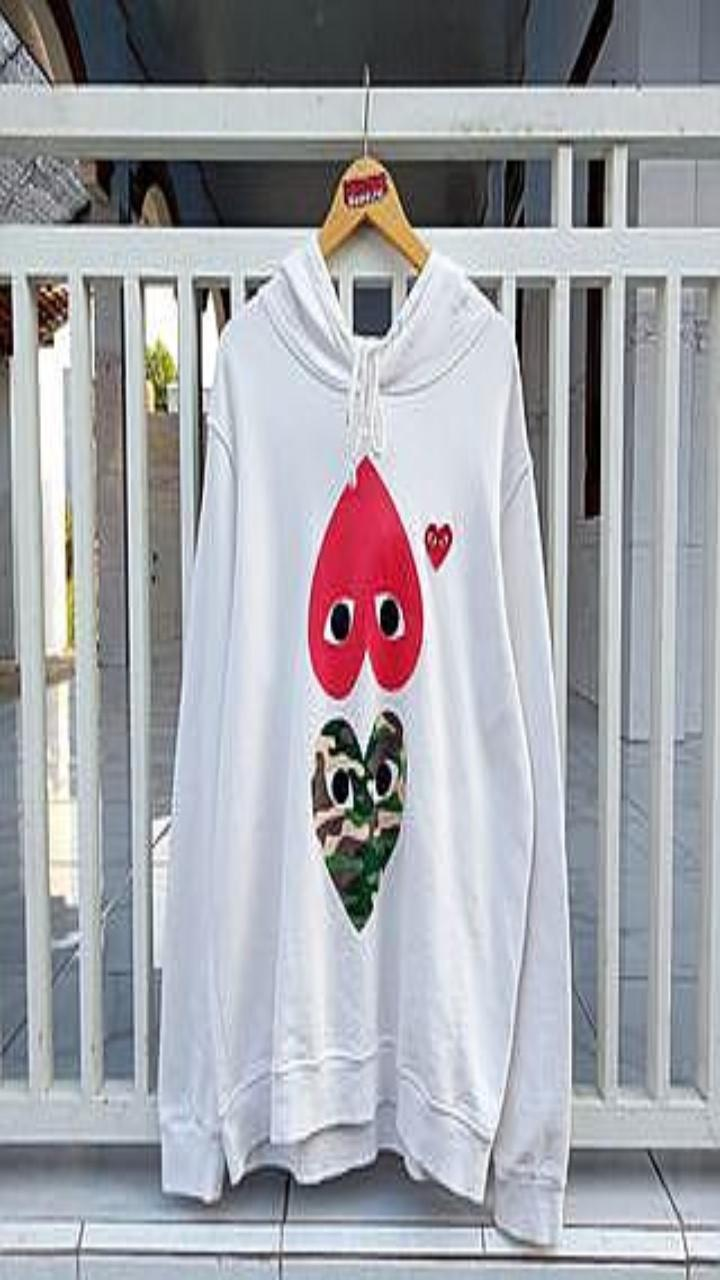Hoodie: (158, 231, 570, 1243)
